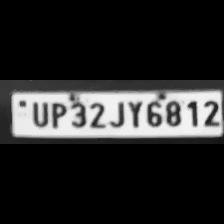1: (182, 98, 200, 128)
2: (200, 98, 222, 128), (88, 100, 106, 128)
3: (68, 100, 86, 128)
6: (142, 98, 162, 128)
8: (163, 98, 183, 128)
J: (107, 98, 125, 128)
P: (47, 100, 66, 128)
U: (28, 99, 48, 127)
Y: (124, 98, 142, 128)
